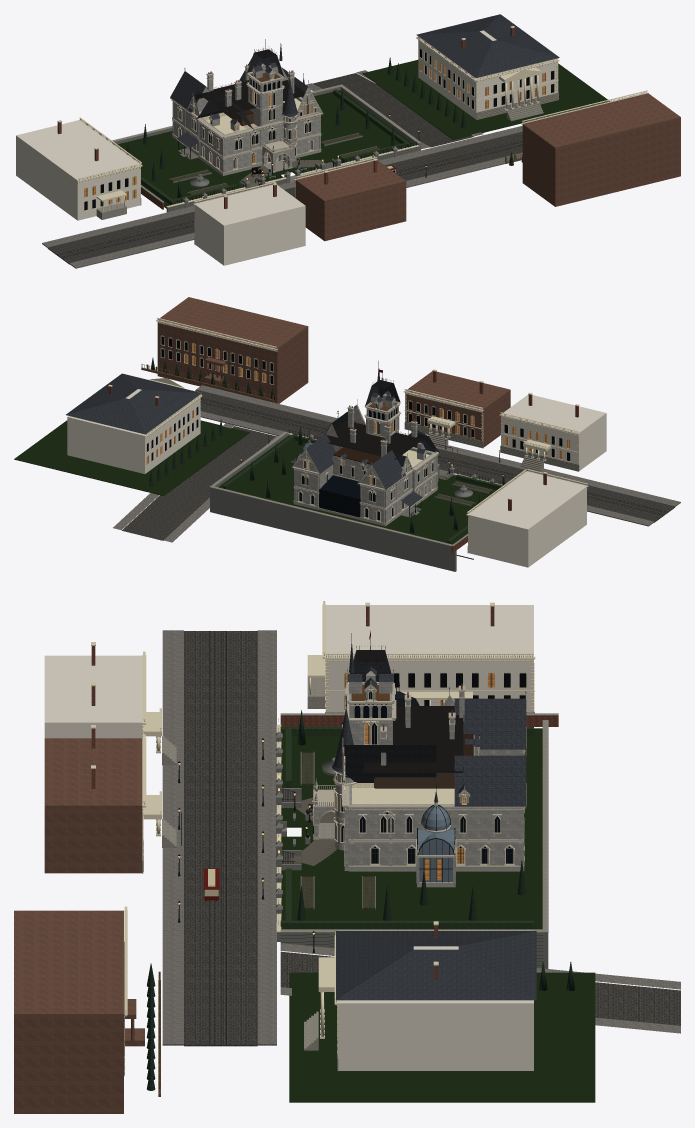
The model's file is hopkins.glb.
3 views of the same model, one above another, from view 1: azimuth 30°, elevation 25°; view 2: azimuth 150°, elevation 25°; view 3: azimuth 270°, elevation 25° (orthographic). The views are drawn at different scales.
Parts seen in each view (by area): view 1: brownstone, paint_white, grass, cobbles, trim_cream, slate, ashlar, flags, granite, trim_stone, stone, hedge (+9 smaller); view 2: paint_white, brownstone, grass, cobbles, granite, trim_cream, slate, ashlar, flags, stone, glass_clear, trim_stone (+9 smaller); view 3: paint_white, brownstone, grass, cobbles, slate, flags, trim_cream, ashlar, stone, granite, roof, trim_stone (+10 smaller).
Part boxes in pixels (<box>): brownstone: <box>295,93,680,241</box>; paint_white: <box>16,30,557,265</box>; grass: <box>116,60,609,208</box>; cobbles: <box>47,73,522,264</box>; trim_cream: <box>57,26,648,236</box>; slate: <box>170,14,559,148</box>; ashlar: <box>172,63,321,175</box>; flags: <box>42,70,522,268</box>; granite: <box>47,87,522,263</box>; trim_stone: <box>170,51,323,173</box>; stone: <box>96,84,558,244</box>; hedge: <box>141,89,411,204</box>; paint_white: <box>67,389,606,567</box>; brownstone: <box>141,297,510,447</box>; grass: <box>14,420,497,544</box>; cobbles: <box>122,390,674,540</box>; granite: <box>196,389,675,571</box>; trim_cream: <box>108,317,588,545</box>; slate: <box>66,366,439,506</box>; ashlar: <box>293,393,437,526</box>; flags: <box>113,385,680,542</box>; stone: <box>200,422,579,552</box>; glass_clear: <box>299,407,433,520</box>; trim_stone: <box>292,396,438,523</box>; paint_white: <box>44,605,533,1070</box>; brownstone: <box>14,738,160,1113</box>; grass: <box>281,728,595,1102</box>; cobbles: <box>184,631,680,1046</box>; slate: <box>332,642,536,1000</box>; flags: <box>162,630,680,1045</box>; trim_cream: <box>91,601,535,1076</box>; ashlar: <box>314,671,524,887</box>; stone: <box>142,677,558,1071</box>; granite: <box>183,630,548,1045</box>; roof: <box>223,631,462,1044</box>; trim_stone: <box>312,671,526,883</box>.
Size of the model in its own units: 182 by 45.35 by 109.
Materials: 92 (54 with a texture image).
